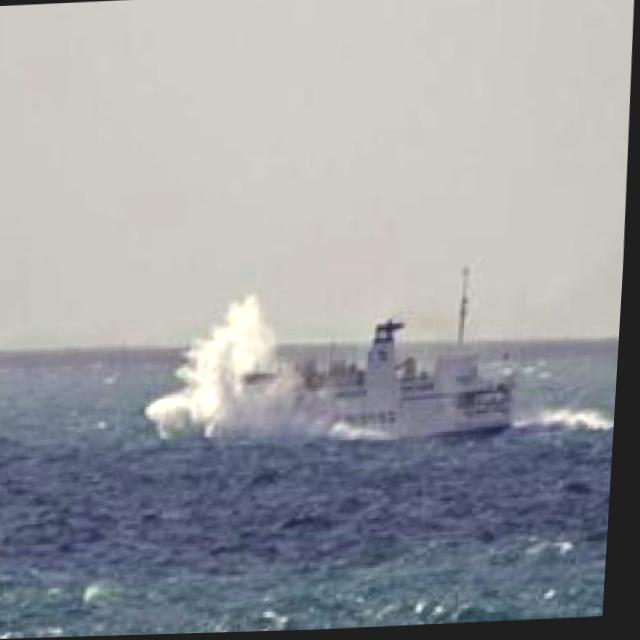ship2: (148, 268, 521, 441)
